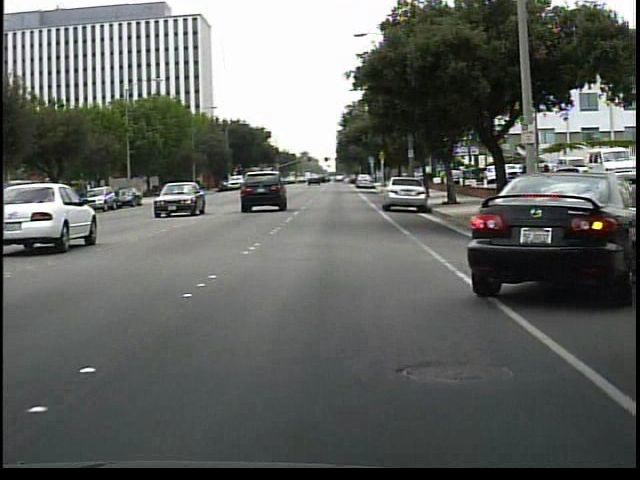person: (519, 160, 540, 216), (537, 158, 558, 200)
